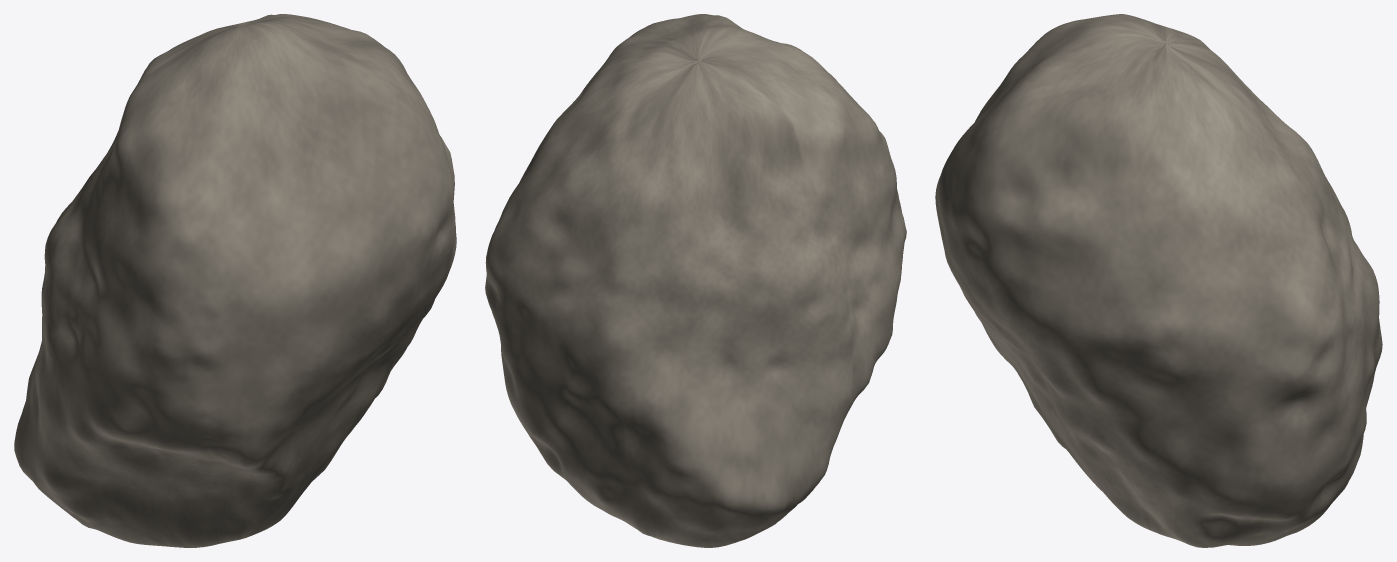
3 renders of one model, left to right at view 1: azimuth 30°, elevation 25°; view 2: azimuth 150°, elevation 25°; view 3: azimuth 270°, elevation 25°, orthographic. The views are drawn at different scales.
Parts seen in each view (by area): view 1: Hyperion; view 2: Hyperion; view 3: Hyperion.
Part boxes in pixels (box(x1,y1,x2,y2)): Hyperion: box(14, 14, 456, 547); Hyperion: box(485, 14, 906, 547); Hyperion: box(935, 14, 1382, 547).
Size of the model in its own units: 252 by 341 by 267.
Materials: 1 (1 with a texture image).
